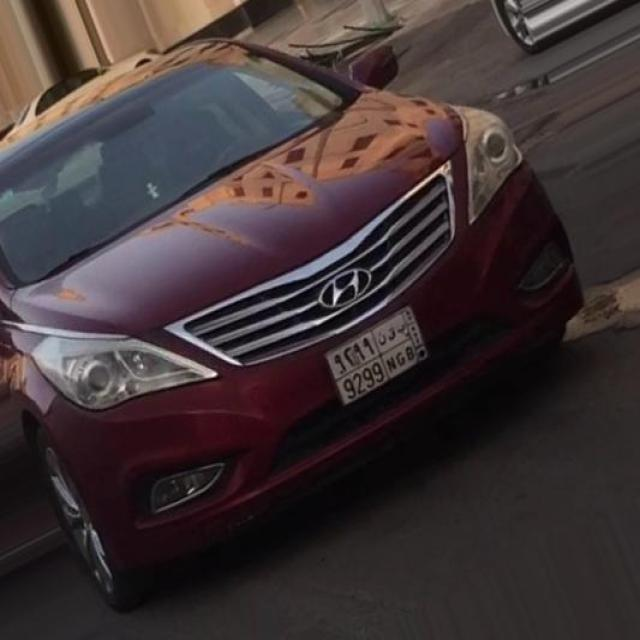Car-plate: (318, 287, 447, 420)
